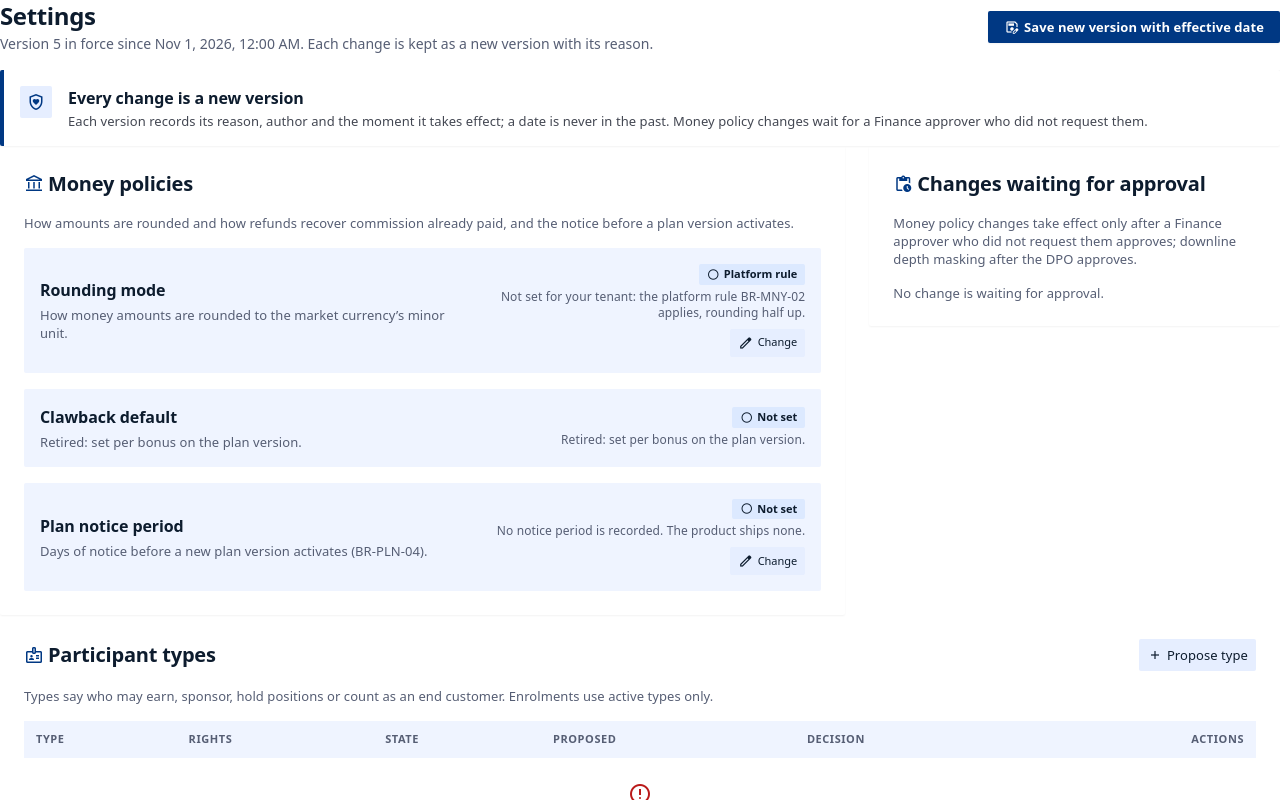
Test: money policies › sends a money change with its effective date; the 202 change request waits for Finance
This screenshot has width=1280, height=800.
Click the button with test id "primary-action".
click(1134, 27)  # box 988,11 -> 1279,43
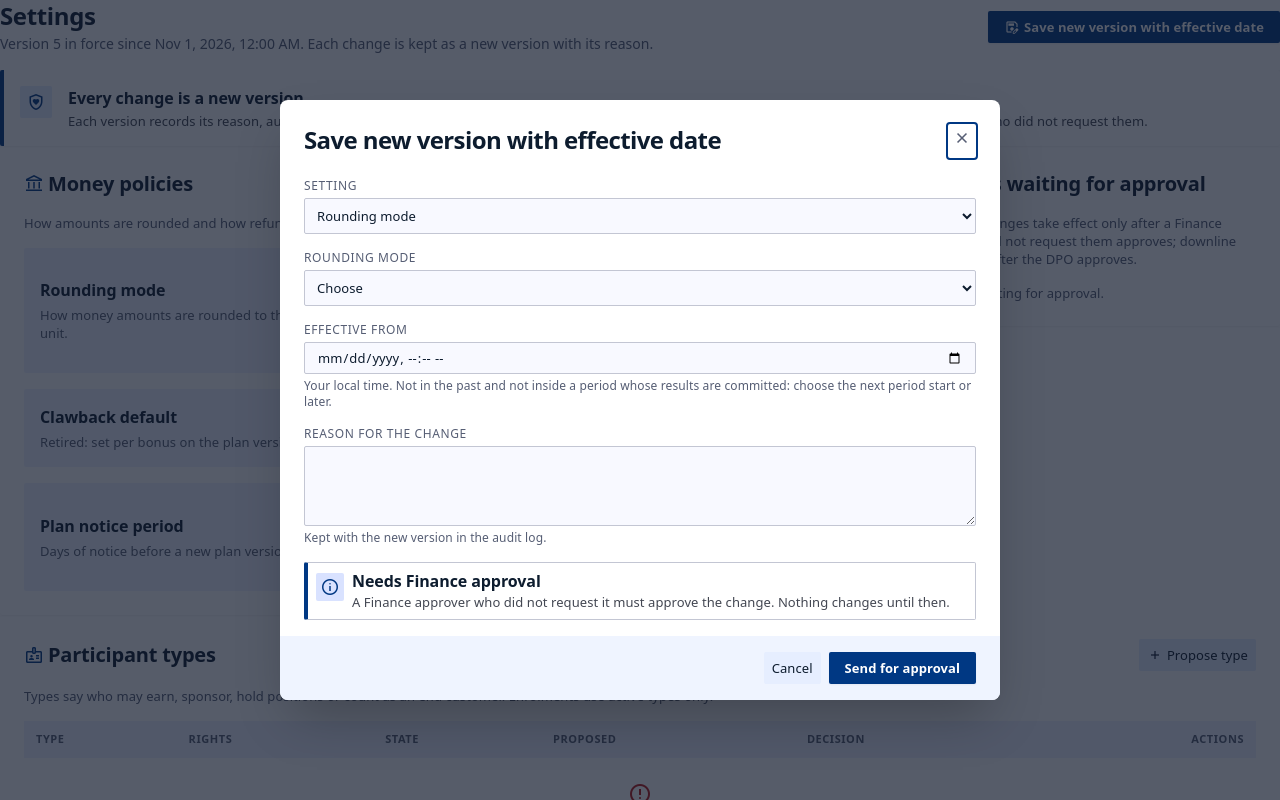
Expected: the text "Needs Finance approval" is shown, 352,570 -> 541,592
Select "Half even" in the dropdown labelled "Rounding mode" at (640, 288), box 304,270 -> 976,306
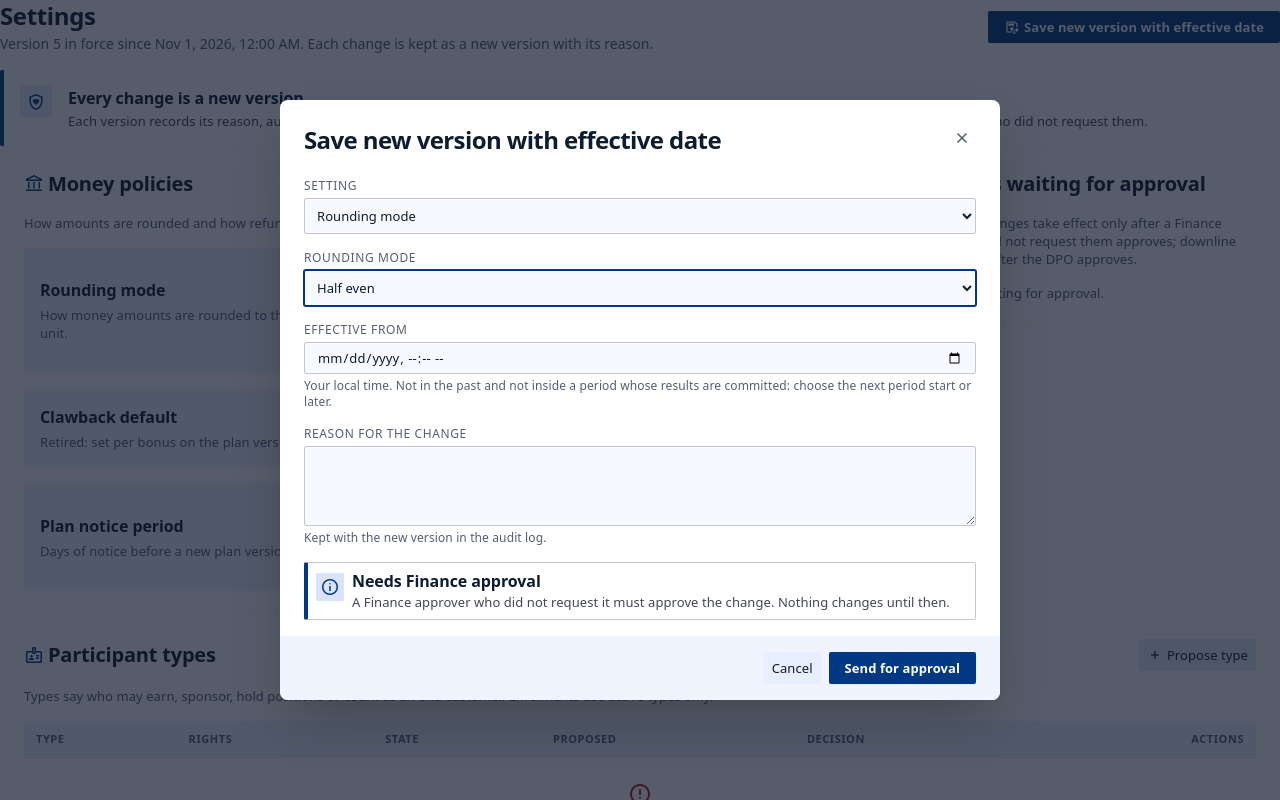
Type "2026-12-01T00:00" into the field labelled "Effective from".
click(640, 358); type("2026-12-01T00:00")  # box 304,342 -> 976,374
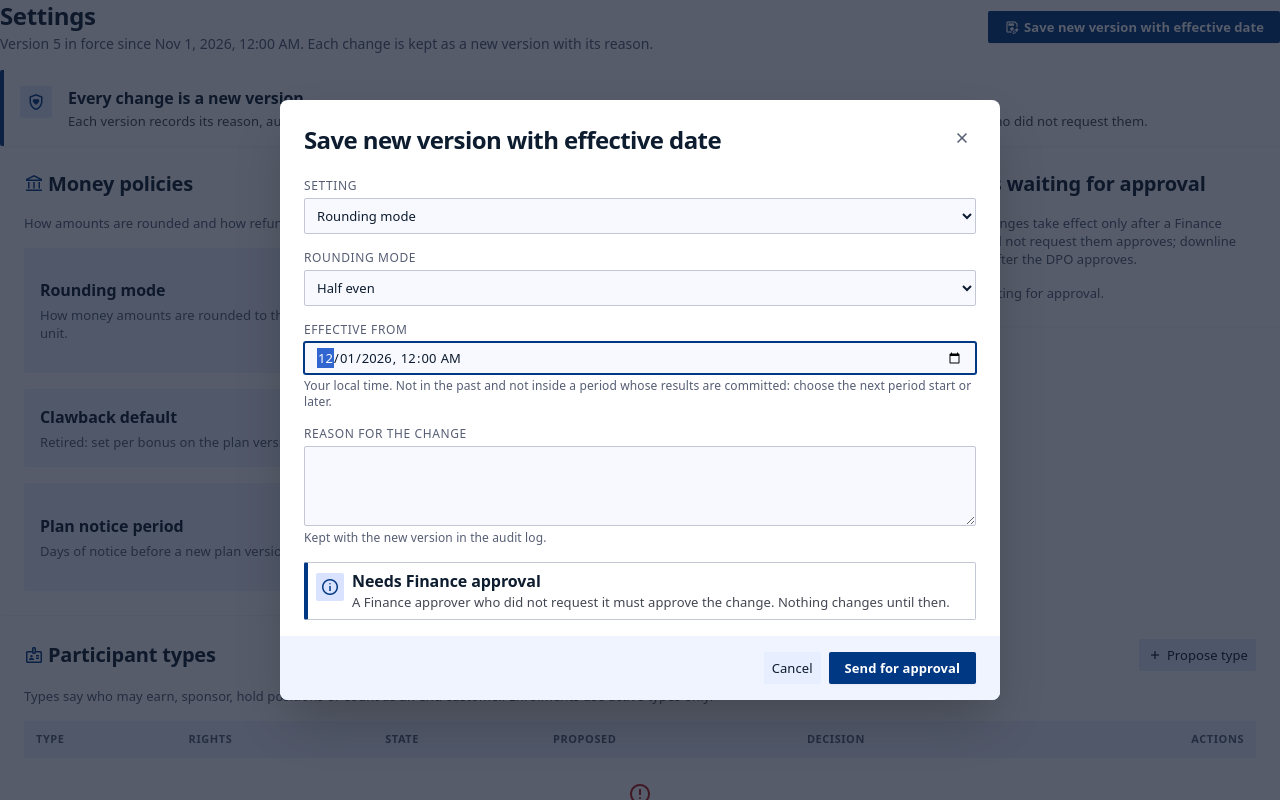
Type "Align with the bank" into the text box labelled "Reason for the change".
click(640, 486); type("Align with the bank")  # box 304,446 -> 976,526
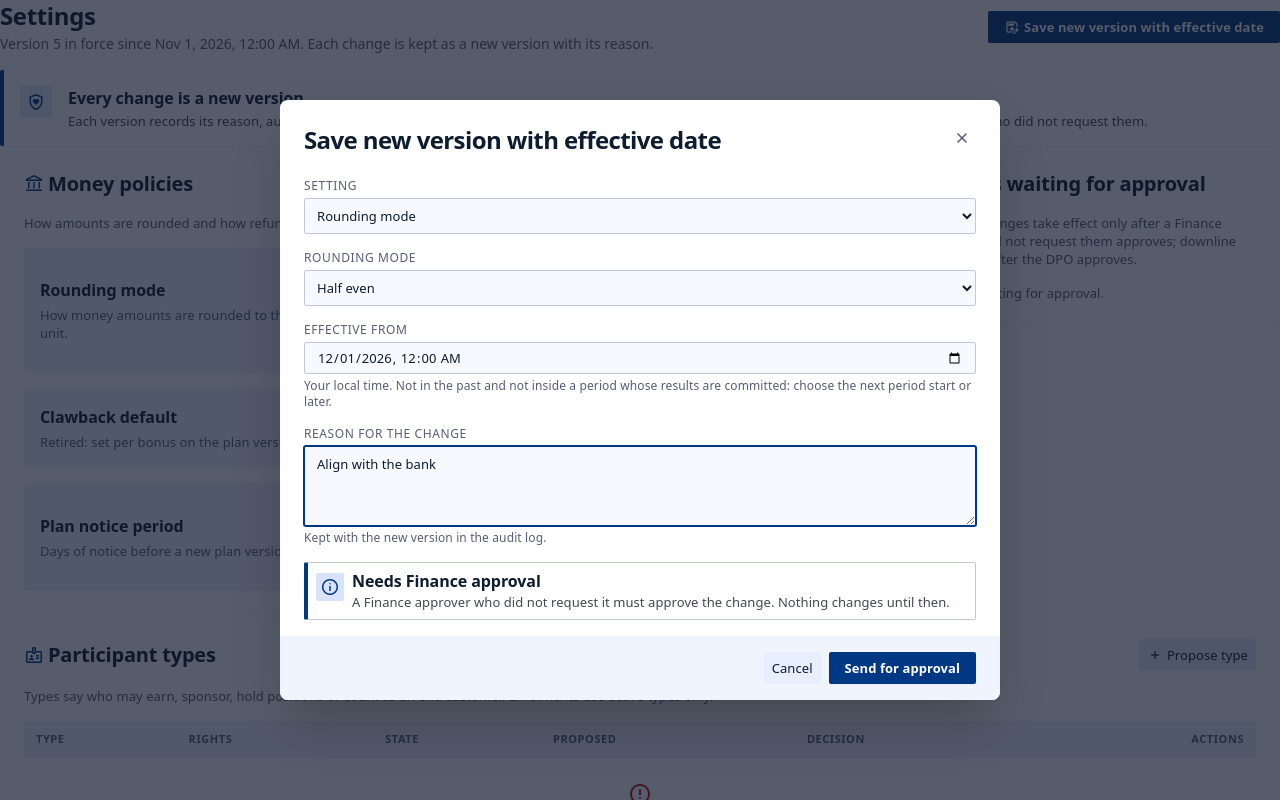
Click the button "Send for approval".
click(902, 668)  # box 829,652 -> 976,684
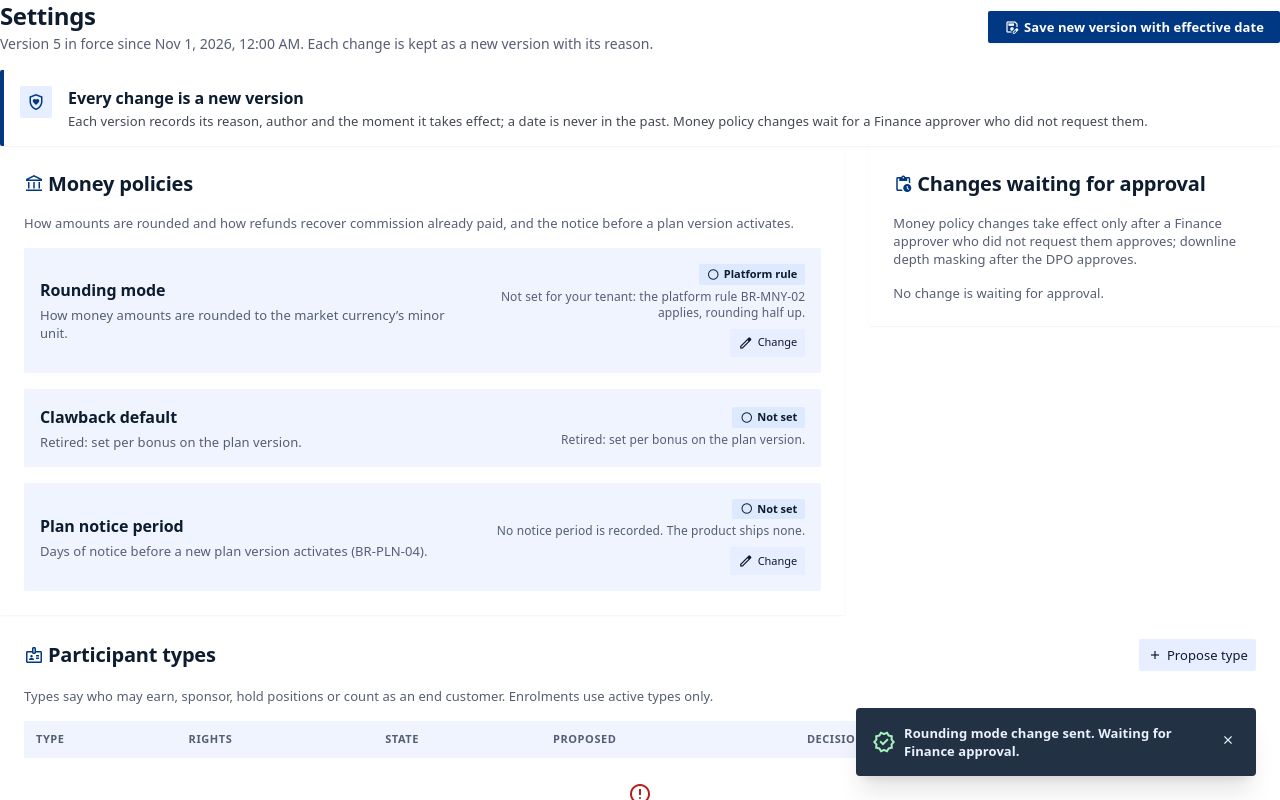
Expected: the text "Rounding mode change sent. Waiting for Finance approval." is shown, 904,724 -> 1208,760
